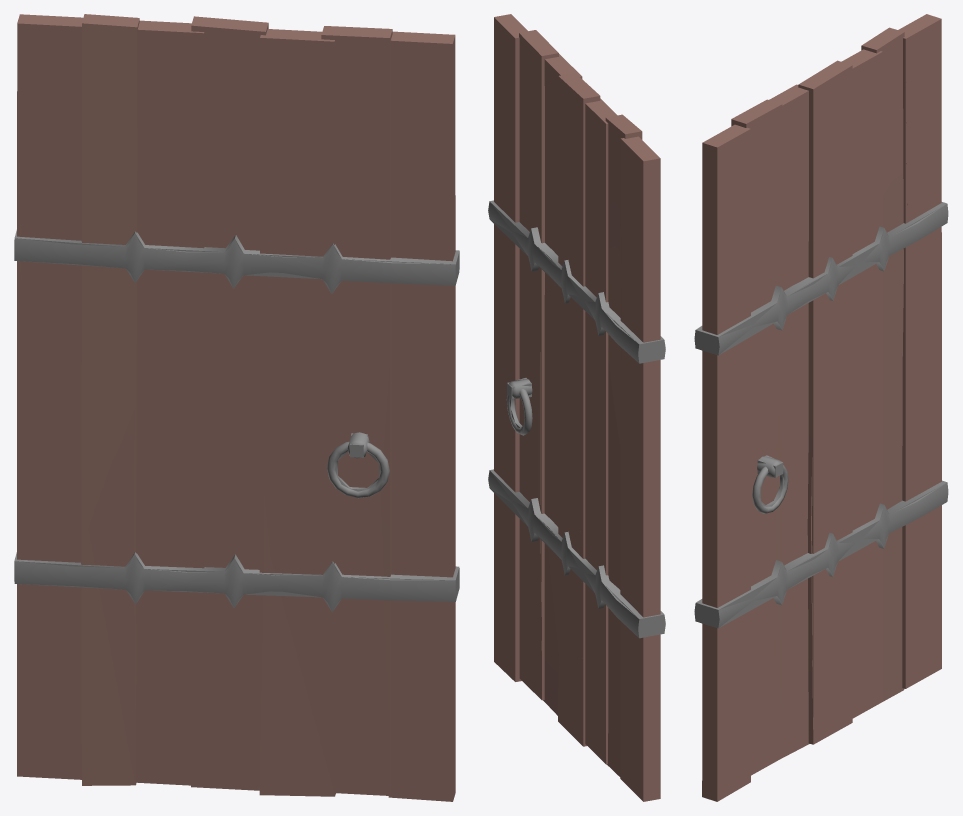
The model's file is Wooden_Door_1.fbx.
3 views of the same model, side by side, from view 1: azimuth 30°, elevation 25°; view 2: azimuth 150°, elevation 25°; view 3: azimuth 270°, elevation 25° (orthographic). The views are drawn at different scales.
Parts seen in each view (by area): view 1: Wooden_Door_1_LOD0, Wooden_Door_1; view 2: Wooden_Door_1_LOD0, Wooden_Door_1; view 3: Wooden_Door_1_LOD0, Wooden_Door_1.
Boxes of the visible parts, left/top/right/bottom form: Wooden_Door_1_LOD0: left=14, top=14, right=459, bottom=801; Wooden_Door_1: left=14, top=30, right=459, bottom=796; Wooden_Door_1_LOD0: left=489, top=14, right=664, bottom=801; Wooden_Door_1: left=488, top=35, right=665, bottom=715; Wooden_Door_1_LOD0: left=695, top=14, right=946, bottom=801; Wooden_Door_1: left=694, top=32, right=948, bottom=757.
Bounding box in the file's own units: 0.9774 × 2.18 × 0.7611.
